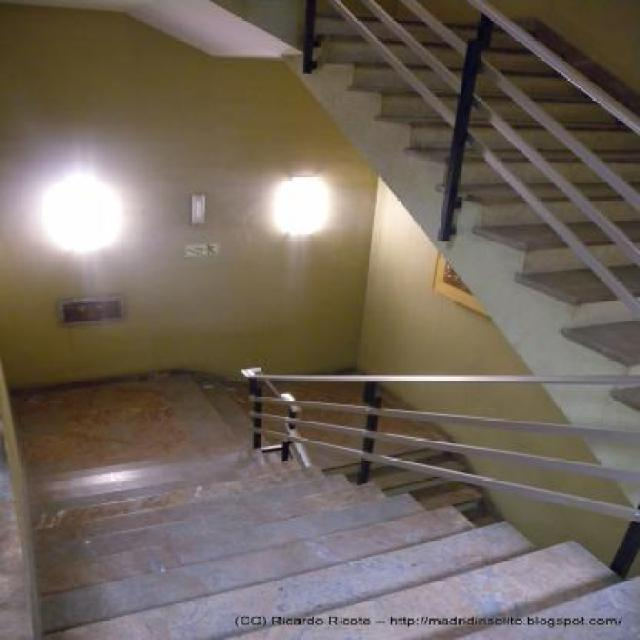stair: (283, 8, 640, 520), (0, 367, 640, 640)
